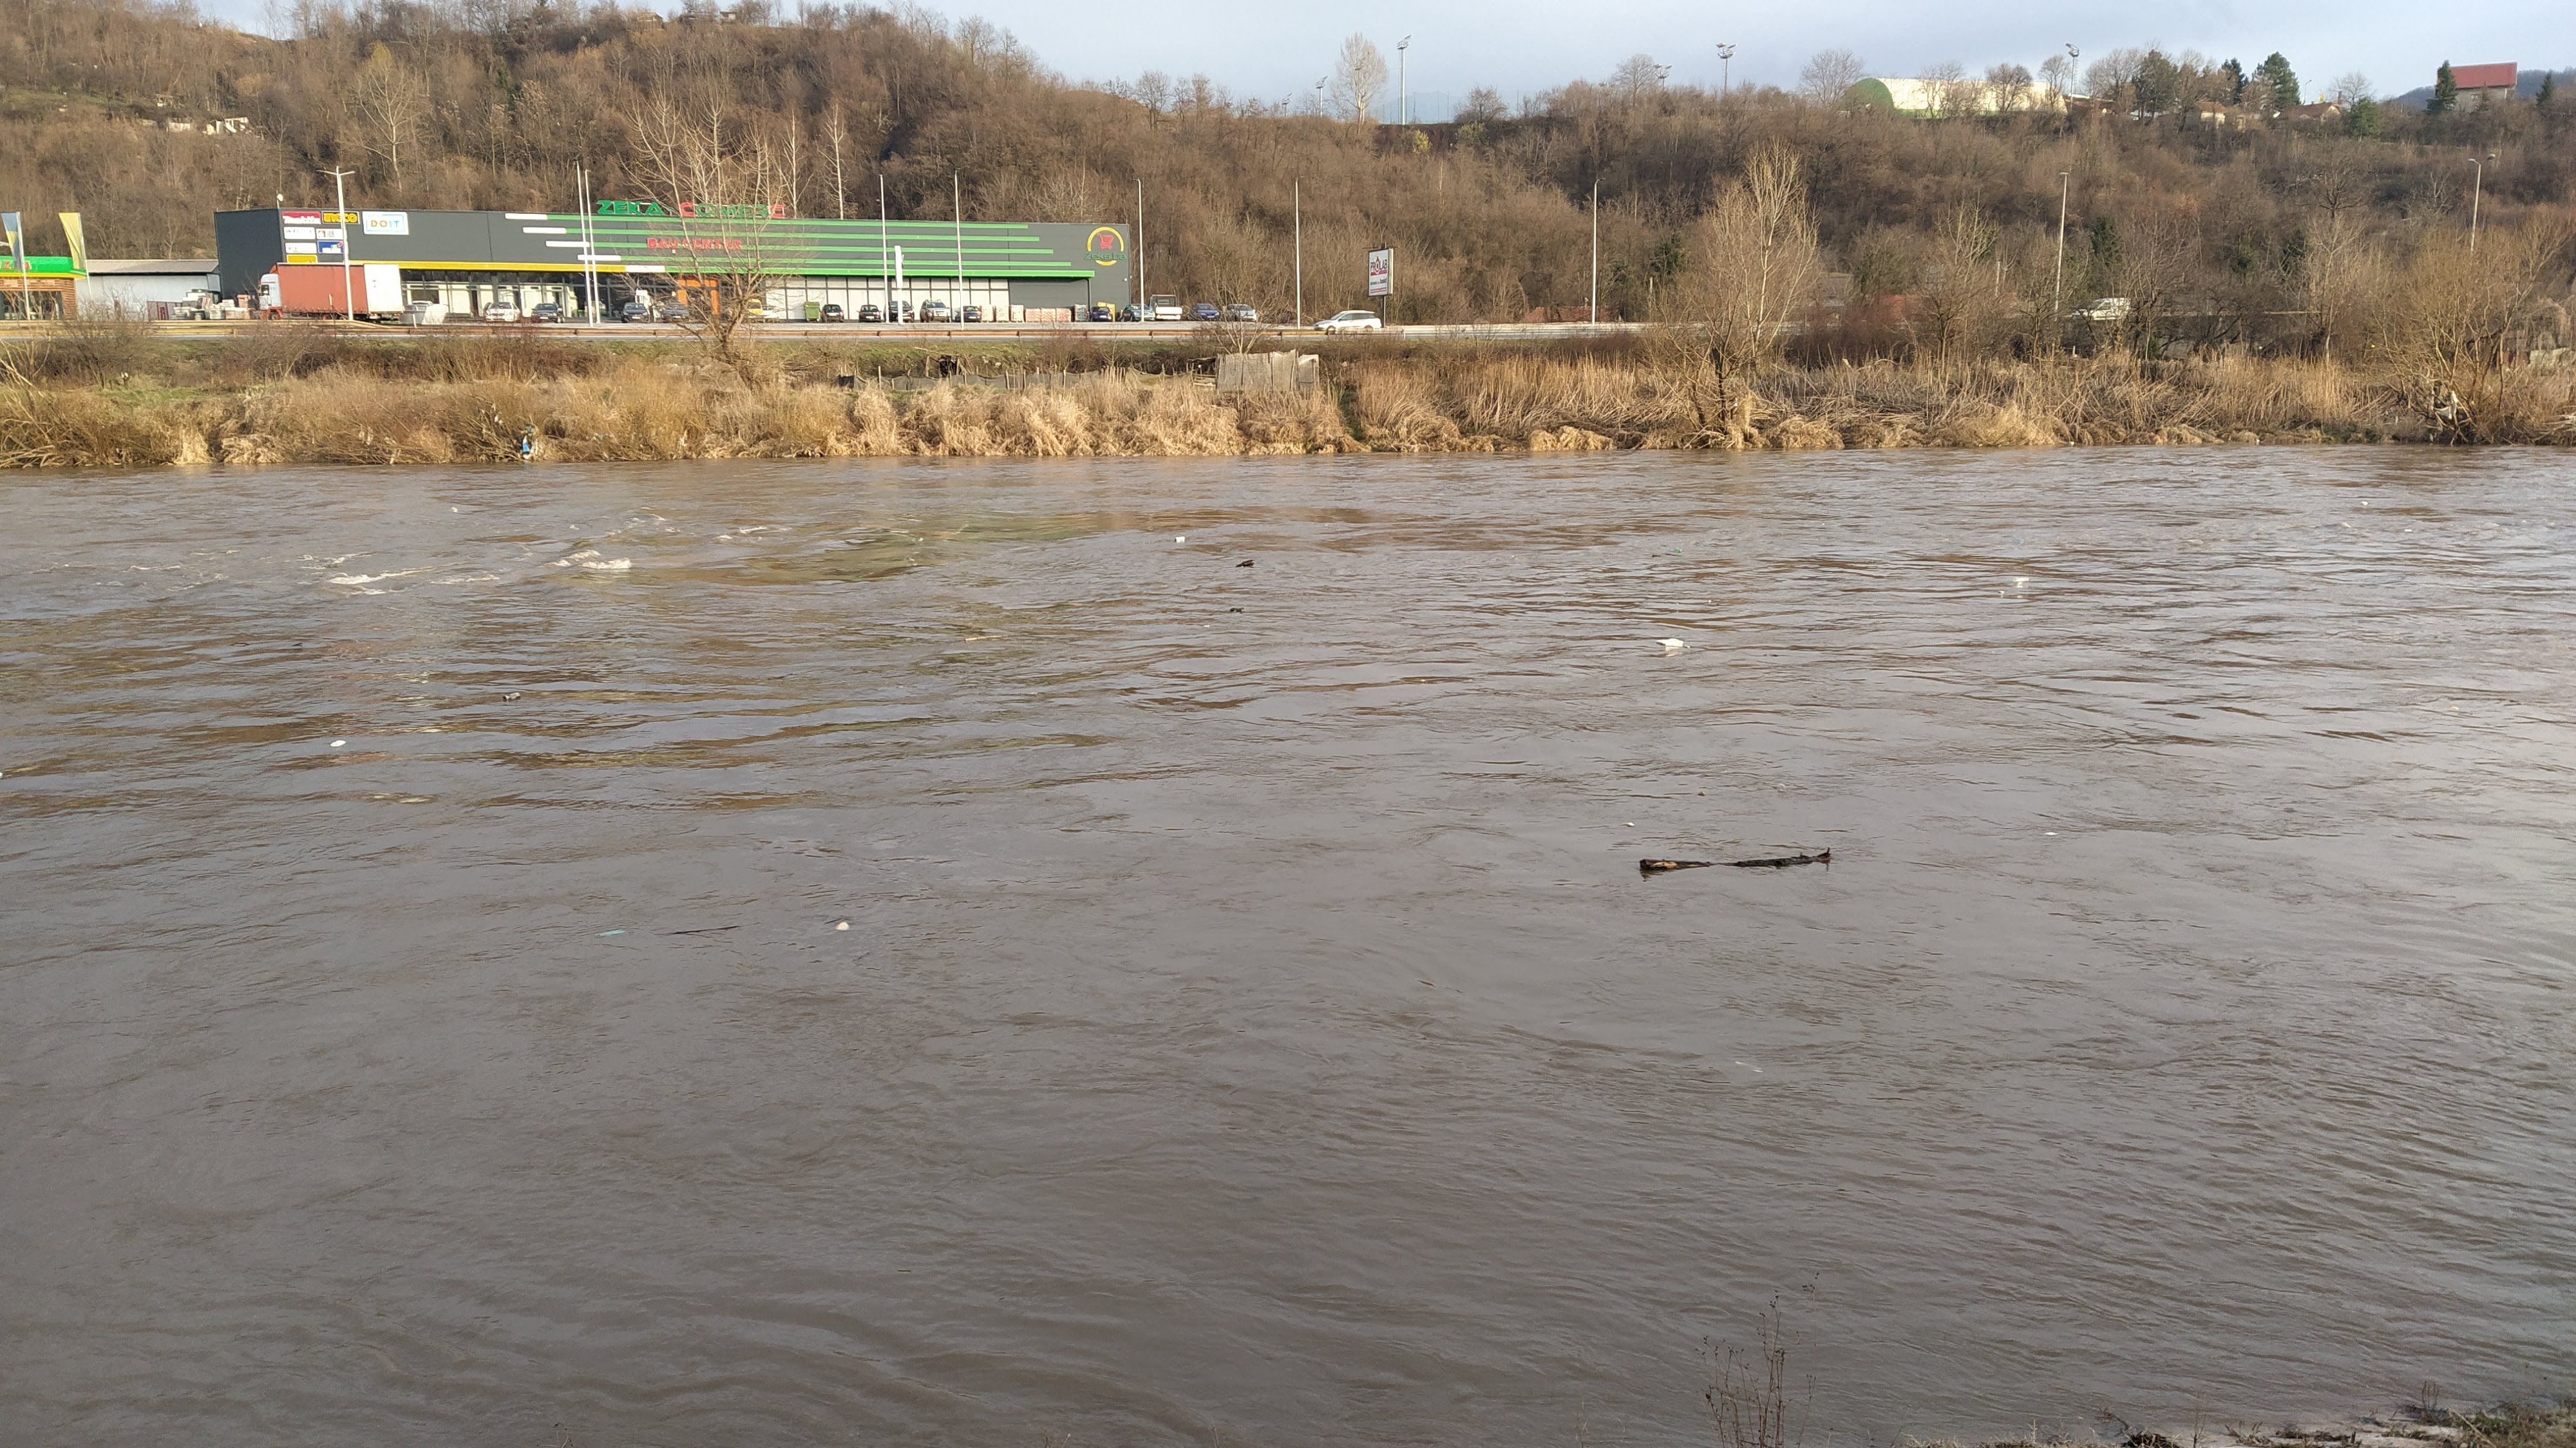Plastic Bottle: (1736, 1060, 1764, 1074), (1658, 637, 1683, 646), (329, 738, 345, 747), (1235, 559, 1254, 566), (837, 920, 849, 931), (502, 692, 518, 699), (2013, 577, 2029, 582), (1230, 607, 1244, 612), (1778, 784, 1787, 791), (1175, 536, 1184, 542), (2341, 522, 2350, 528), (1674, 547, 1681, 552), (2404, 529, 2411, 533), (2362, 501, 2367, 504)
